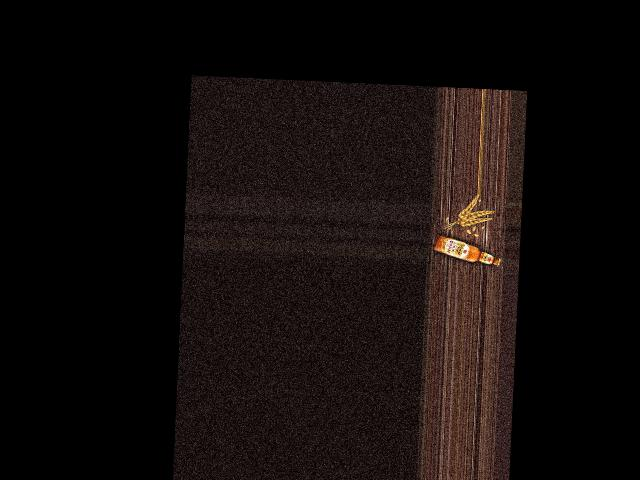beer: (432, 234, 502, 267)
